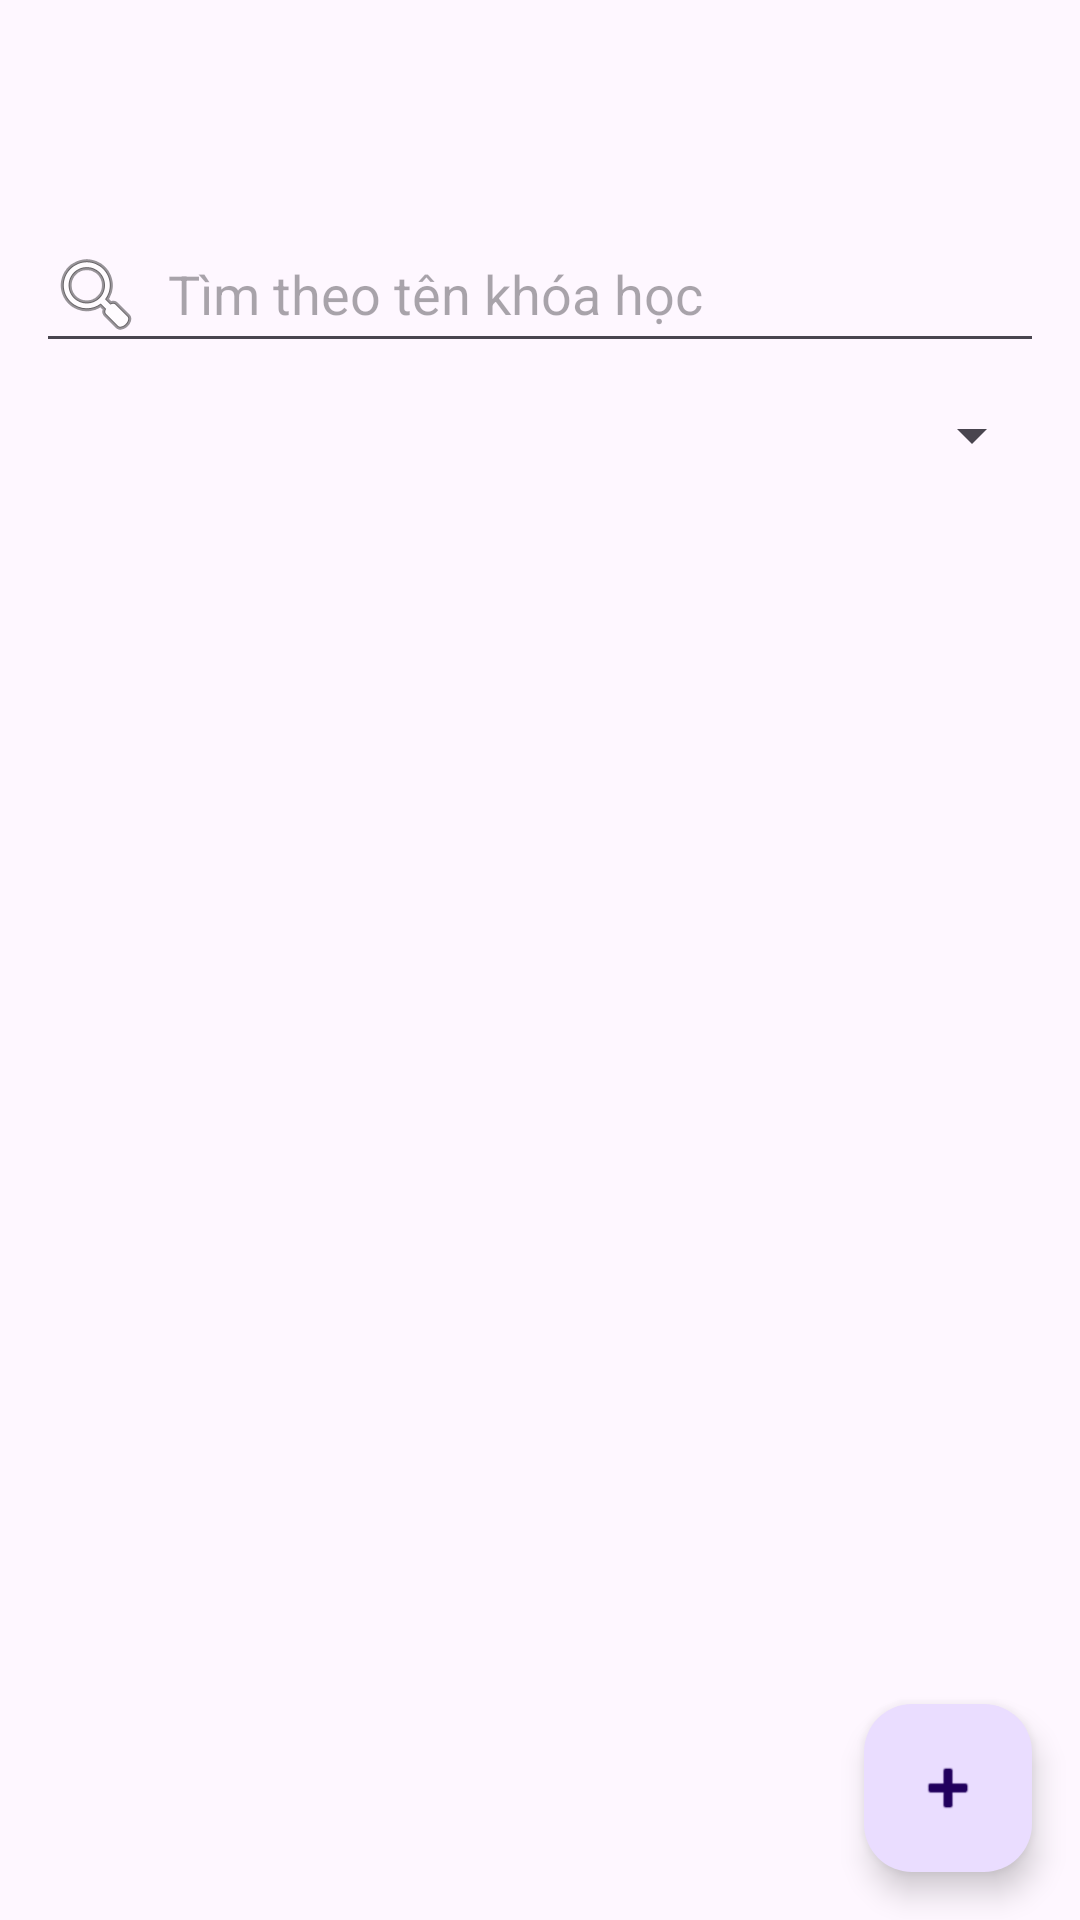

Locate icon controls on the screen. Image size 1080x1920, boxes as (x1, y1, x2, y2).
Thêm khóa học: (864, 1704, 1032, 1872)
